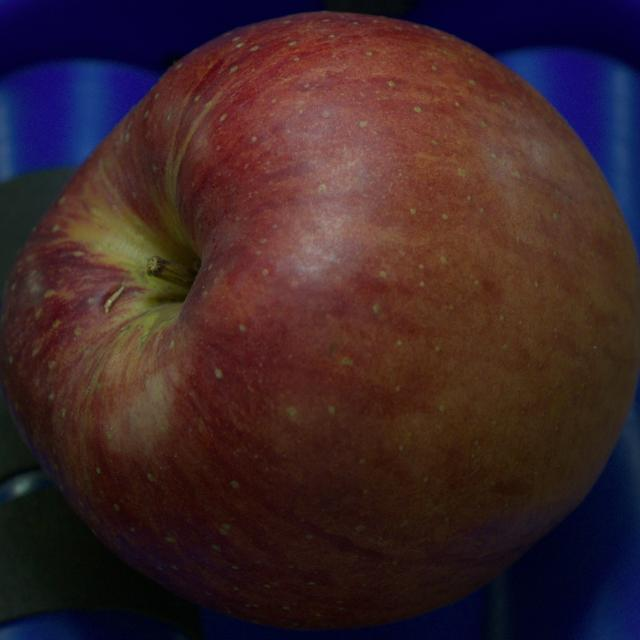apple: (0, 12, 639, 629)
scratch: (104, 284, 125, 313)
